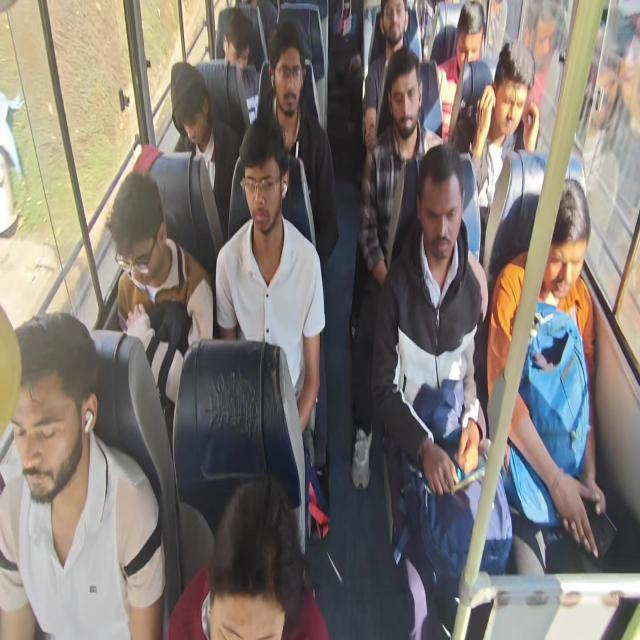person: (370, 142, 513, 636), (0, 310, 166, 638), (486, 178, 606, 562), (350, 47, 444, 489), (215, 115, 326, 464), (105, 170, 214, 454), (166, 473, 328, 639), (255, 21, 338, 264), (468, 40, 538, 263), (170, 61, 239, 244), (361, 0, 410, 151), (436, 1, 486, 143), (222, 10, 260, 124), (236, 0, 278, 73)
